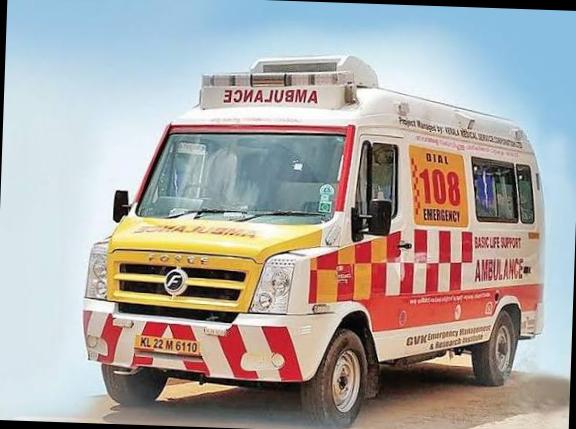ambulance: (78, 44, 548, 429)
